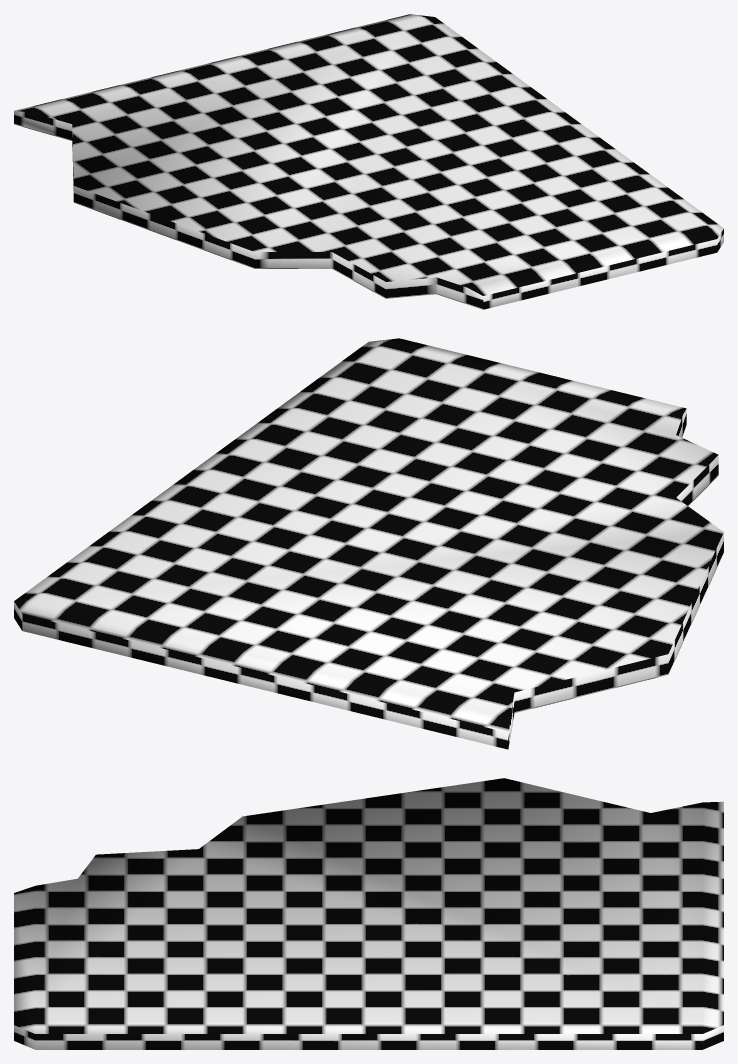
The model's file is stst140.dae.
3 views of the same model, one above another, from view 1: azimuth 30°, elevation 25°; view 2: azimuth 150°, elevation 25°; view 3: azimuth 270°, elevation 25° (orthographic). The views are drawn at different scales.
Visible parts, largest first — view 1: base2; view 2: base2; view 3: base2.
Part boxes in pixels (x1,y1,x2,y2): base2: [14, 14, 723, 309]; base2: [14, 338, 723, 749]; base2: [14, 778, 723, 1049].
Size of the model in its own units: 2.52 by 2.99 by 0.0906.
1 material, 1 textured.
